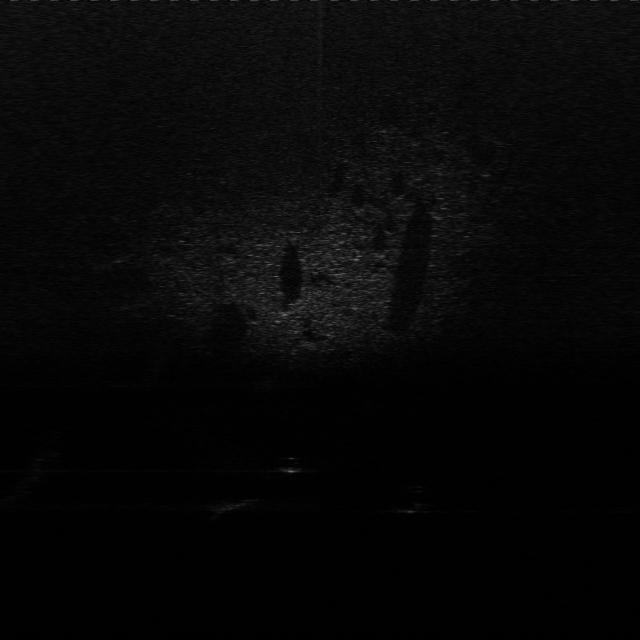ball: (276, 452, 306, 476)
square cage: (207, 484, 266, 516)
tyre: (394, 482, 434, 517)
